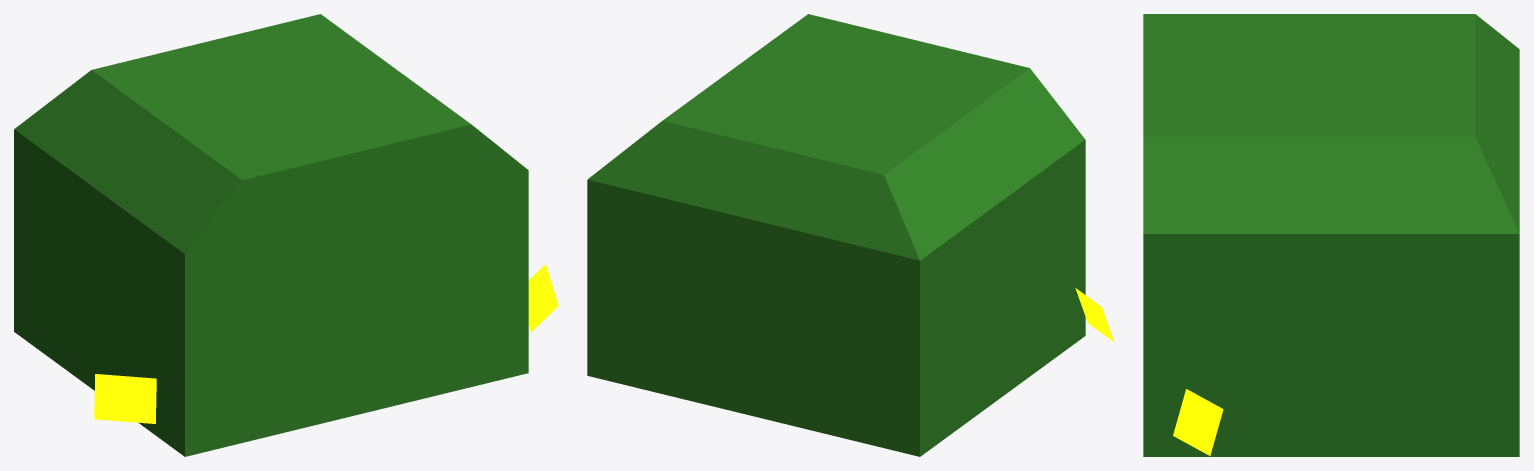
Rendered from Gattling_Housing.glb.
The picture shows the model from 3 angles, left to right: view 1: azimuth 30°, elevation 25°; view 2: azimuth 150°, elevation 25°; view 3: azimuth 270°, elevation 25°; orthographic projection. The views are drawn at different scales.
Parts seen in each view (by area): view 1: Gattling Housing; view 2: Gattling Housing; view 3: Gattling Housing.
Part boxes in pixels (x1,y1,x2,y2): Gattling Housing: (14, 14, 558, 456); Gattling Housing: (587, 14, 1114, 456); Gattling Housing: (1143, 14, 1519, 456).
Size of the model in its own units: 0.7224 by 0.3903 by 0.4602.
